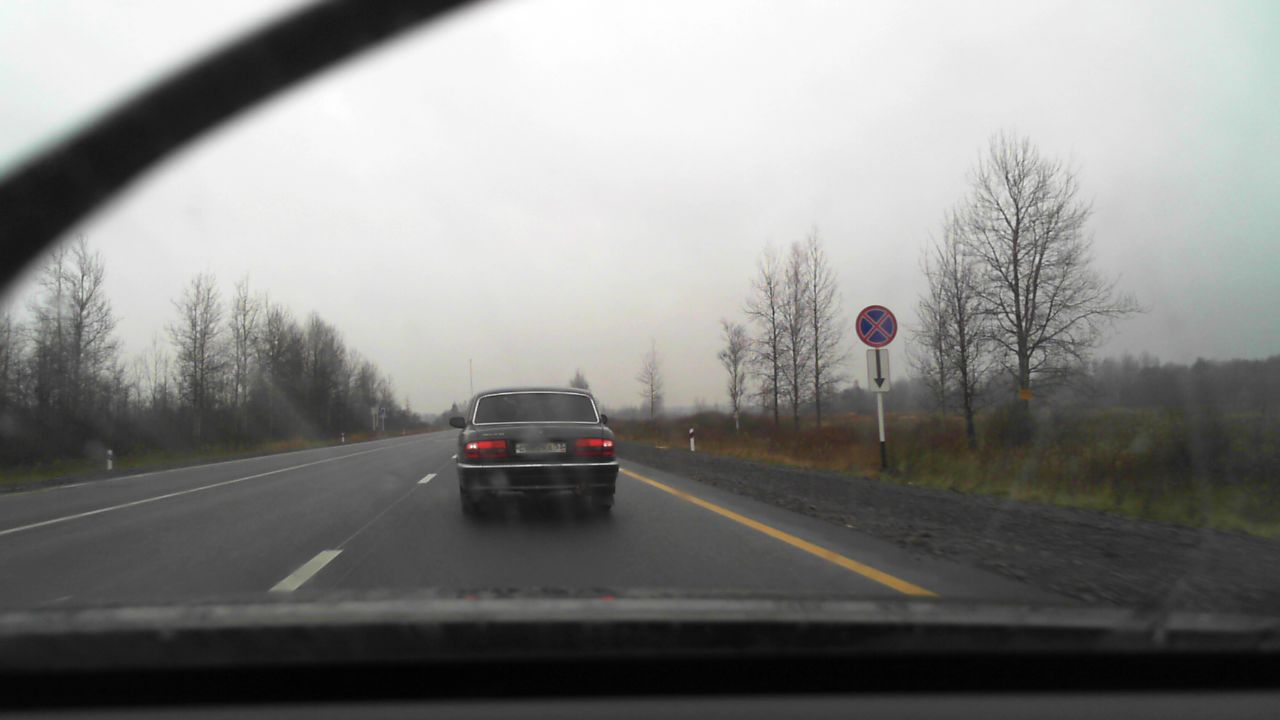No Parking: (855, 304, 898, 347)
